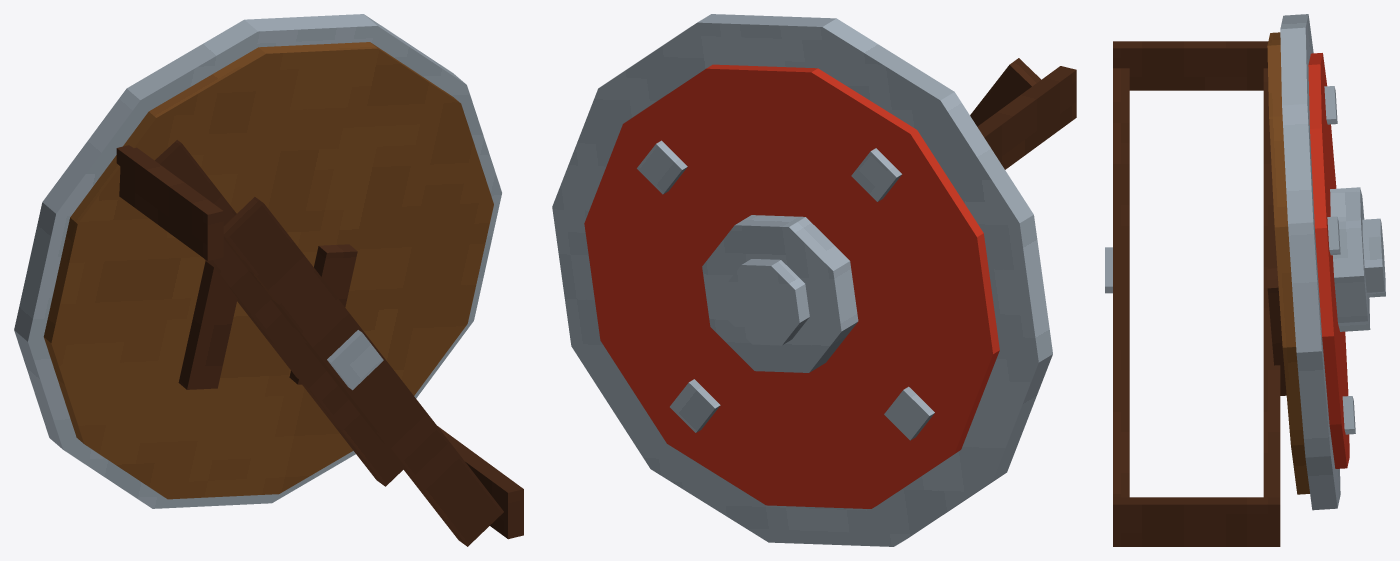
File: acc_shield_back.glb
The picture shows the model from 3 angles, left to right: view 1: azimuth 30°, elevation 25°; view 2: azimuth 150°, elevation 25°; view 3: azimuth 270°, elevation 25°; orthographic projection. The views are drawn at different scales.
Parts seen in each view (by area): view 1: acc_shield_back; view 2: acc_shield_back; view 3: acc_shield_back.
Boxes of the visible parts, x1=… form: acc_shield_back: x1=14, y1=14, x2=523, y2=546; acc_shield_back: x1=552, y1=14, x2=1076, y2=546; acc_shield_back: x1=1105, y1=14, x2=1385, y2=546.
Size of the model in its own units: 0.7482 by 0.749 by 0.4198.
Materials: 4 (3 with a texture image).
